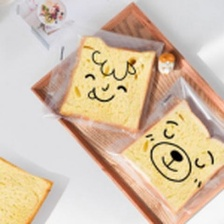snack: (99, 71, 224, 223), (36, 14, 170, 142), (0, 137, 76, 223)
